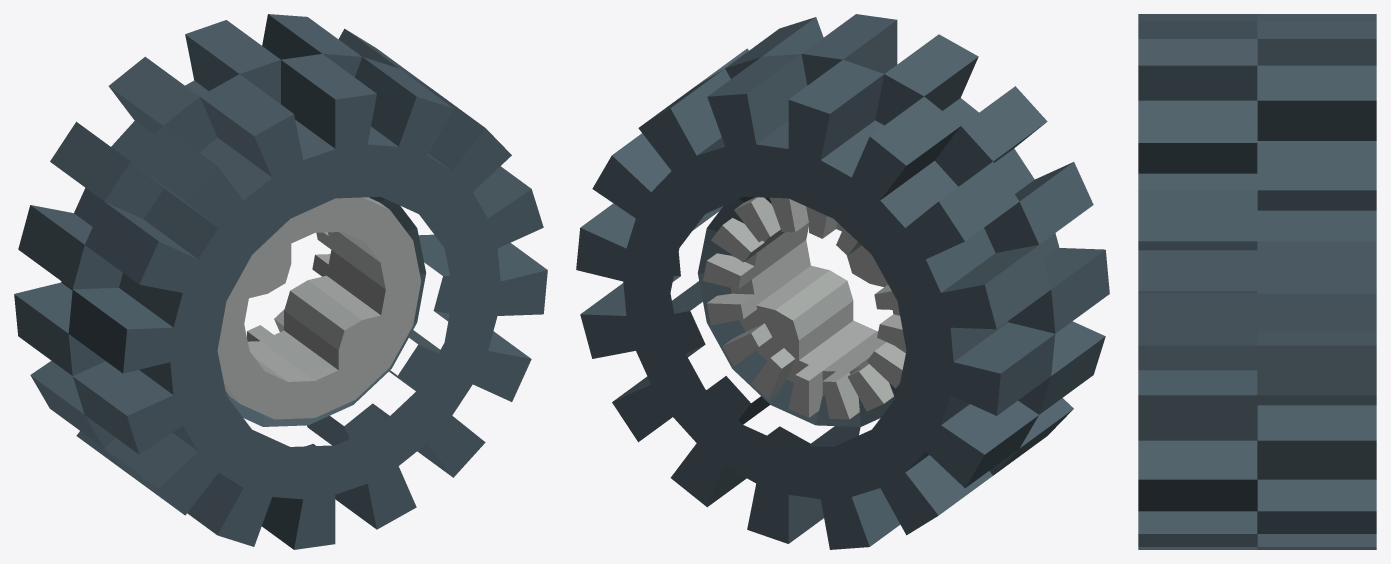
3 renders of one model, left to right at view 1: azimuth 30°, elevation 25°; view 2: azimuth 150°, elevation 25°; view 3: azimuth 270°, elevation 25°, orthographic. The views are drawn at different scales.
Parts seen in each view (by area): view 1: world; view 2: world; view 3: world.
Boxes of the visible parts, <box> form: world: <box>14,14,547,549</box>; world: <box>576,14,1109,549</box>; world: <box>1138,14,1376,549</box>.
Bounding box in the file's own units: 0.0144 × 0.0144 × 0.0064.
